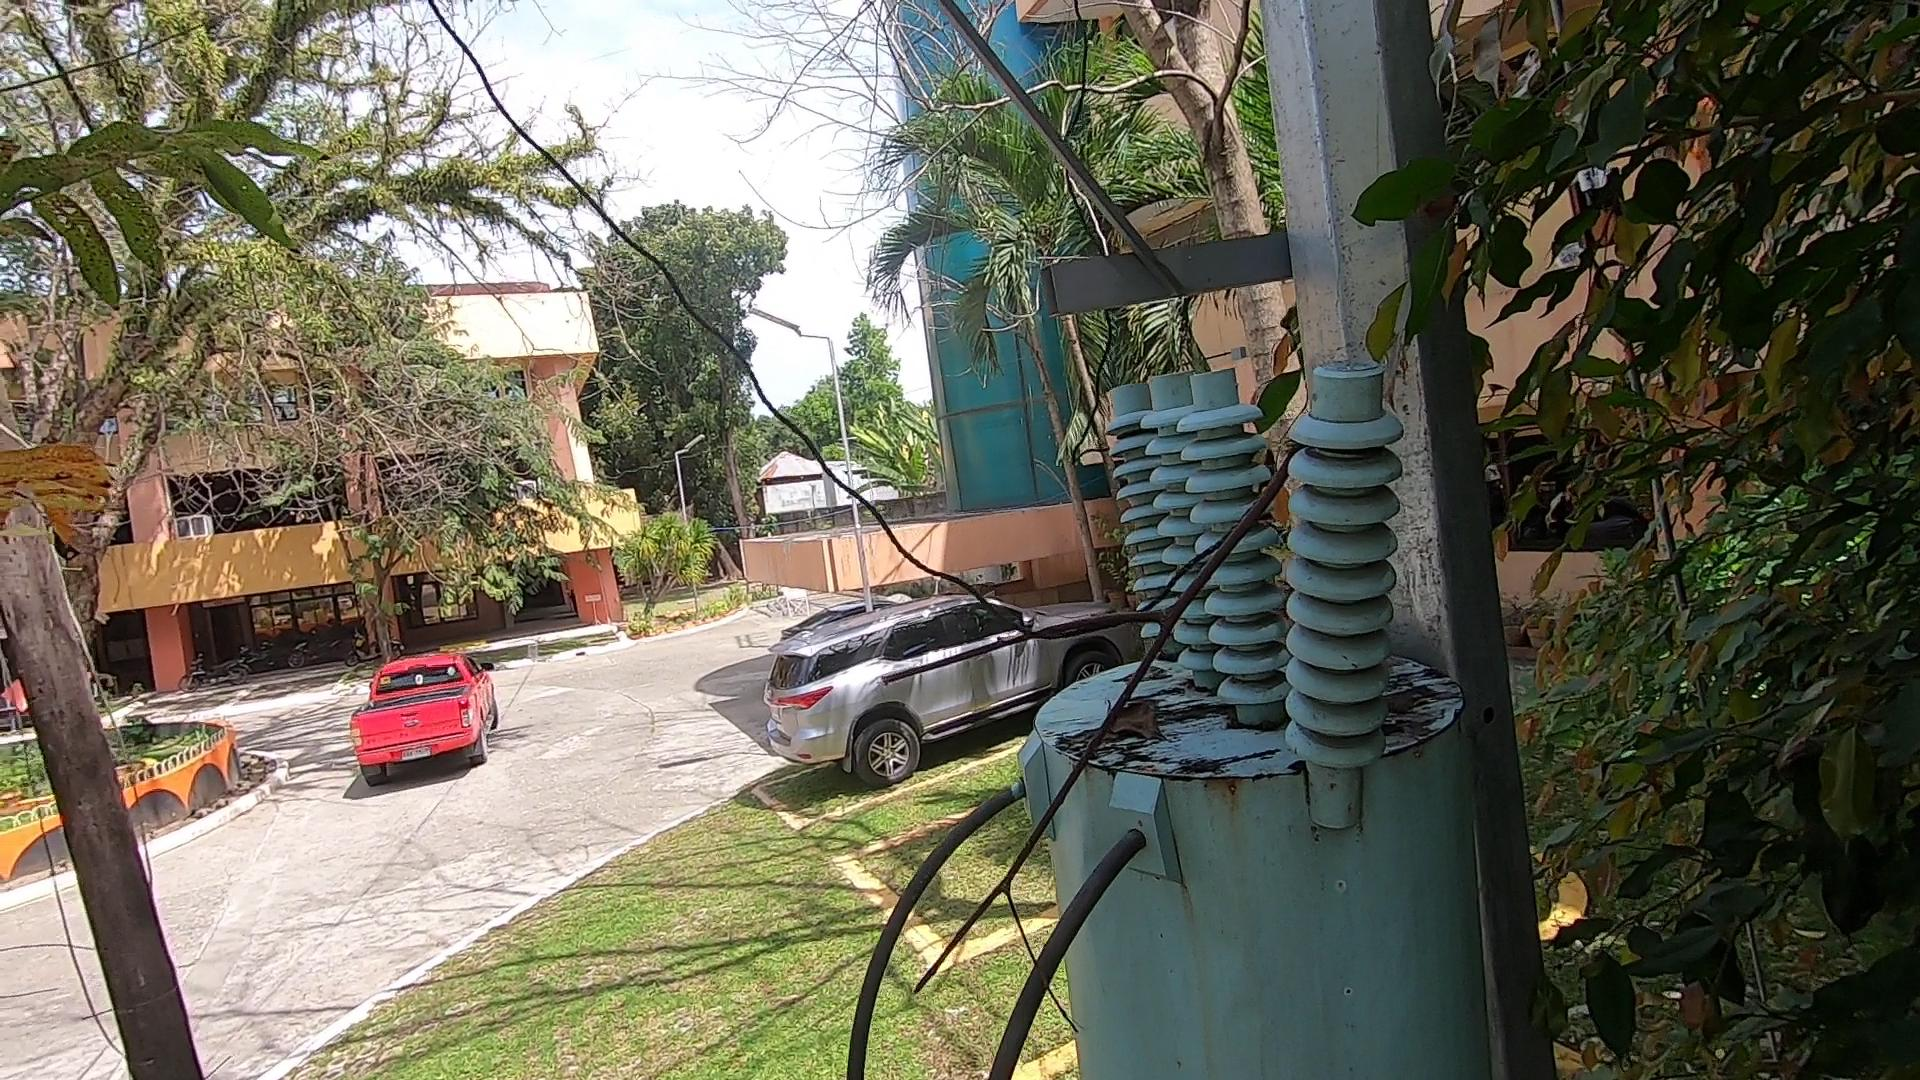leaf: (1092, 676, 1164, 760)
tree branch: (895, 409, 1333, 1048)
